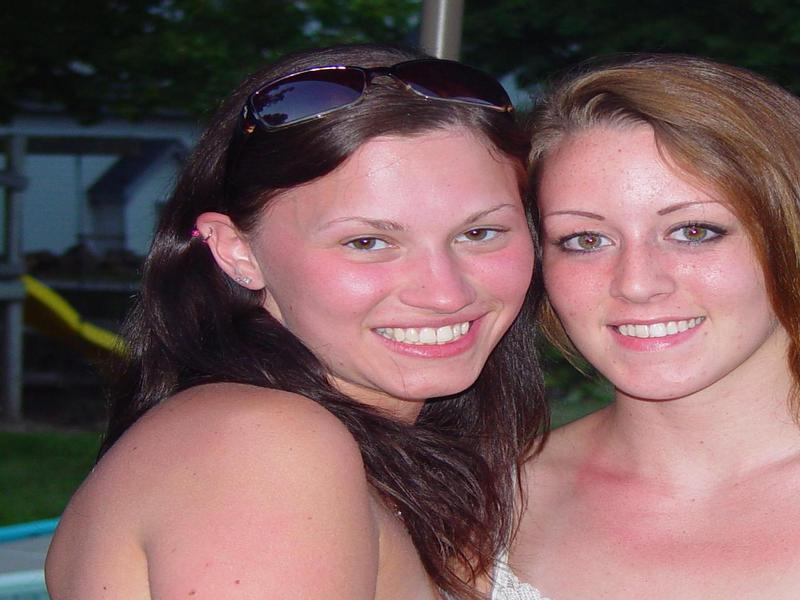person: (42, 53, 581, 600), (511, 53, 799, 600)
